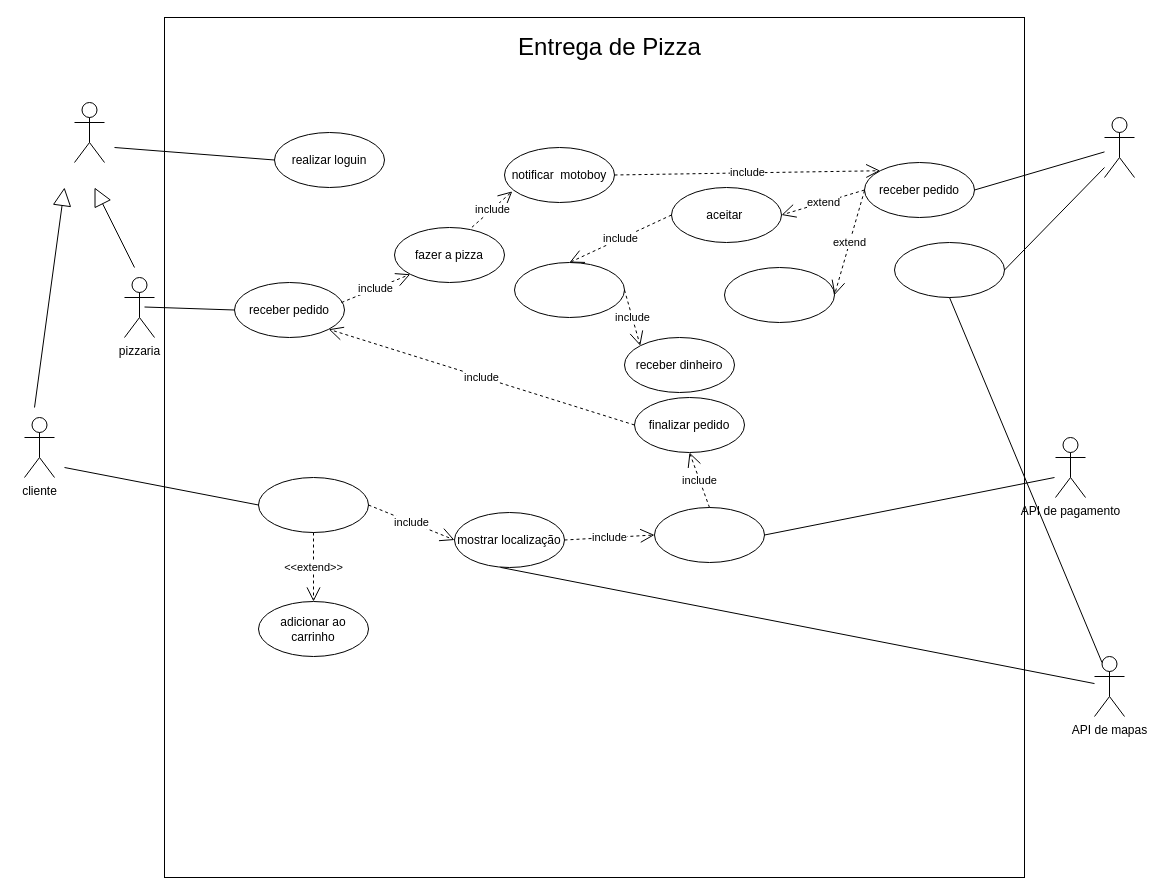
The diagram is 1164 pixels wide and 895 high, and some of its shapes have lost their labels. Each missing label, with the centre of its shape:
fazer a entrega: [569,290]
fazer pagamento: [709,534]
mototboy: [1119,147]
receber localização: [949,270]
rejeitar: [779,294]
usuário: [89,132]
visualizar as pizzas: [313,504]
